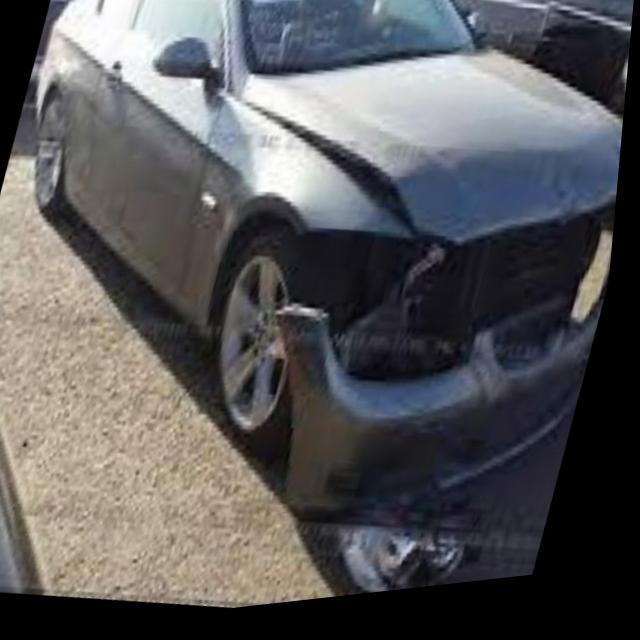dislocated part: (254, 111, 627, 525)
